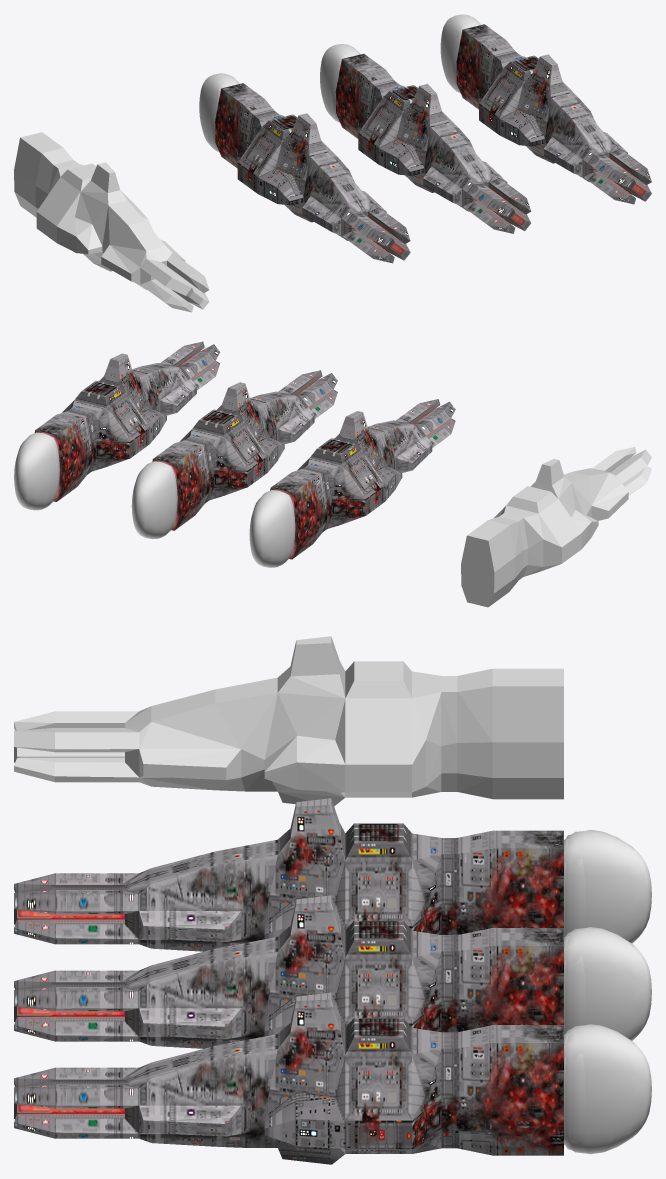
Rendered from hgn_bst_tdn_ioncannonfrigate.dae.
The picture shows the model from 3 angles, top to bottom: view 1: azimuth 30°, elevation 25°; view 2: azimuth 150°, elevation 25°; view 3: azimuth 270°, elevation 25°; orthographic projection. The views are drawn at different scales.
Parts seen in each view (by area): view 1: MULT[root_mesh]_LOD[0], MULT[root_mesh]_LOD[2], MULT[root_mesh]_LOD[1], COL[Root], GLOW[EngineGlow8_LOD0]_LOD[2], GLOW[EngineGlow5_LOD0]_LOD[1], GLOW[EngineGlow2_LOD0]_LOD[0]; view 2: COL[Root], MULT[root_mesh]_LOD[1], MULT[root_mesh]_LOD[0], MULT[root_mesh]_LOD[2], GLOW[EngineGlow2_LOD0]_LOD[0], GLOW[EngineGlow8_LOD0]_LOD[2], GLOW[EngineGlow5_LOD0]_LOD[1]; view 3: MULT[root_mesh]_LOD[2], COL[Root], MULT[root_mesh]_LOD[0], MULT[root_mesh]_LOD[1], GLOW[EngineGlow8_LOD0]_LOD[2], GLOW[EngineGlow5_LOD0]_LOD[1], GLOW[EngineGlow2_LOD0]_LOD[0], GLOW[EngineGlow9_LOD0]_LOD[2], GLOW[EngineGlow6_LOD0]_LOD[1], GLOW[EngineGlow3_LOD0]_LOD[0].
Boxes of the visible parts, <box> form: MULT[root_mesh]_LOD[0]: <box>215,83,410,263</box>; MULT[root_mesh]_LOD[2]: <box>456,24,651,204</box>; MULT[root_mesh]_LOD[1]: <box>335,53,531,233</box>; COL[Root]: <box>14,132,209,312</box>; GLOW[EngineGlow8_LOD0]_LOD[2]: <box>440,14,480,93</box>; GLOW[EngineGlow5_LOD0]_LOD[1]: <box>320,44,360,122</box>; GLOW[EngineGlow2_LOD0]_LOD[0]: <box>199,73,239,151</box>; COL[Root]: <box>461,447,651,607</box>; MULT[root_mesh]_LOD[1]: <box>152,370,337,530</box>; MULT[root_mesh]_LOD[0]: <box>270,399,455,559</box>; MULT[root_mesh]_LOD[2]: <box>34,341,219,501</box>; GLOW[EngineGlow2_LOD0]_LOD[0]: <box>249,490,293,567</box>; GLOW[EngineGlow8_LOD0]_LOD[2]: <box>14,432,57,510</box>; GLOW[EngineGlow5_LOD0]_LOD[1]: <box>131,461,175,539</box>; MULT[root_mesh]_LOD[2]: <box>14,992,563,1164</box>; COL[Root]: <box>14,636,563,806</box>; MULT[root_mesh]_LOD[0]: <box>14,798,563,951</box>; MULT[root_mesh]_LOD[1]: <box>14,895,563,1048</box>; GLOW[EngineGlow8_LOD0]_LOD[2]: <box>564,1024,651,1154</box>; GLOW[EngineGlow5_LOD0]_LOD[1]: <box>564,927,651,1040</box>; GLOW[EngineGlow2_LOD0]_LOD[0]: <box>564,829,651,943</box>; GLOW[EngineGlow9_LOD0]_LOD[2]: <box>566,1052,585,1145</box>; GLOW[EngineGlow6_LOD0]_LOD[1]: <box>566,954,585,1030</box>; GLOW[EngineGlow3_LOD0]_LOD[0]: <box>566,857,585,933</box>.
Size of the model in its own units: 286 by 51.38 by 183.
25 materials, 25 textured.
